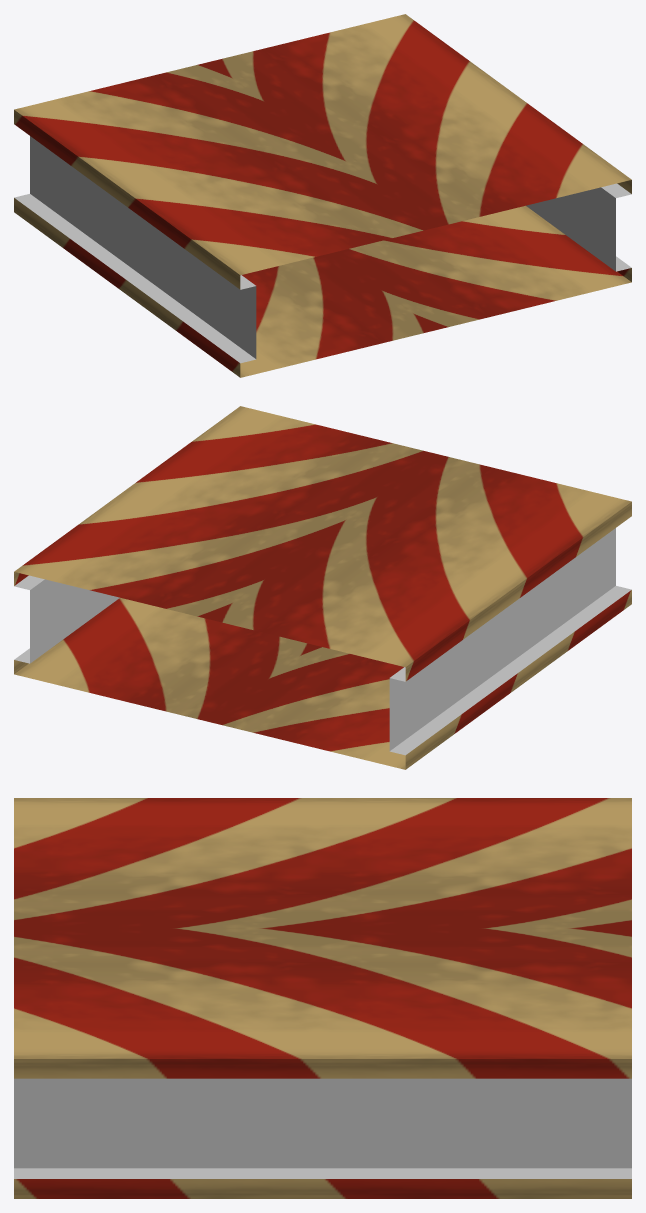
Rendered from MOD_Roller_2_Middle.FBX.
3 views of the same model, one above another, from view 1: azimuth 30°, elevation 25°; view 2: azimuth 150°, elevation 25°; view 3: azimuth 270°, elevation 25° (orthographic). The views are drawn at different scales.
Visible parts, largest first — view 1: MOD_Roller_2_Middle; view 2: MOD_Roller_2_Middle; view 3: MOD_Roller_2_Middle.
Part boxes in pixels (x1,y1,x2,y2): MOD_Roller_2_Middle: [14, 14, 631, 377]; MOD_Roller_2_Middle: [14, 406, 631, 769]; MOD_Roller_2_Middle: [14, 798, 631, 1198].
Bounding box in the file's own units: 2 × 0.5 × 2.
